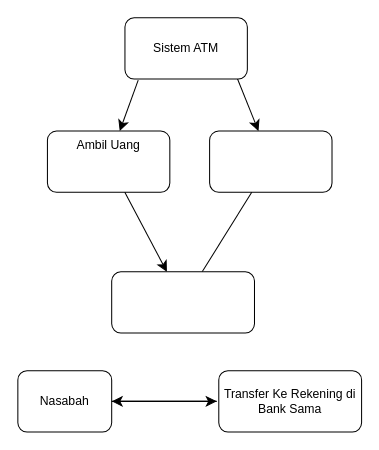
The diagram is 379 pixels wide and 450 high, and some of its shapes have lost their labels. The shapes that lost their labels are listed below. From the top down, each one's box as (x1, y1, x2, y2) in pixels, then its label:
(209, 130, 332, 192): Cek Saldo
(111, 271, 254, 333): Transfer Uang
